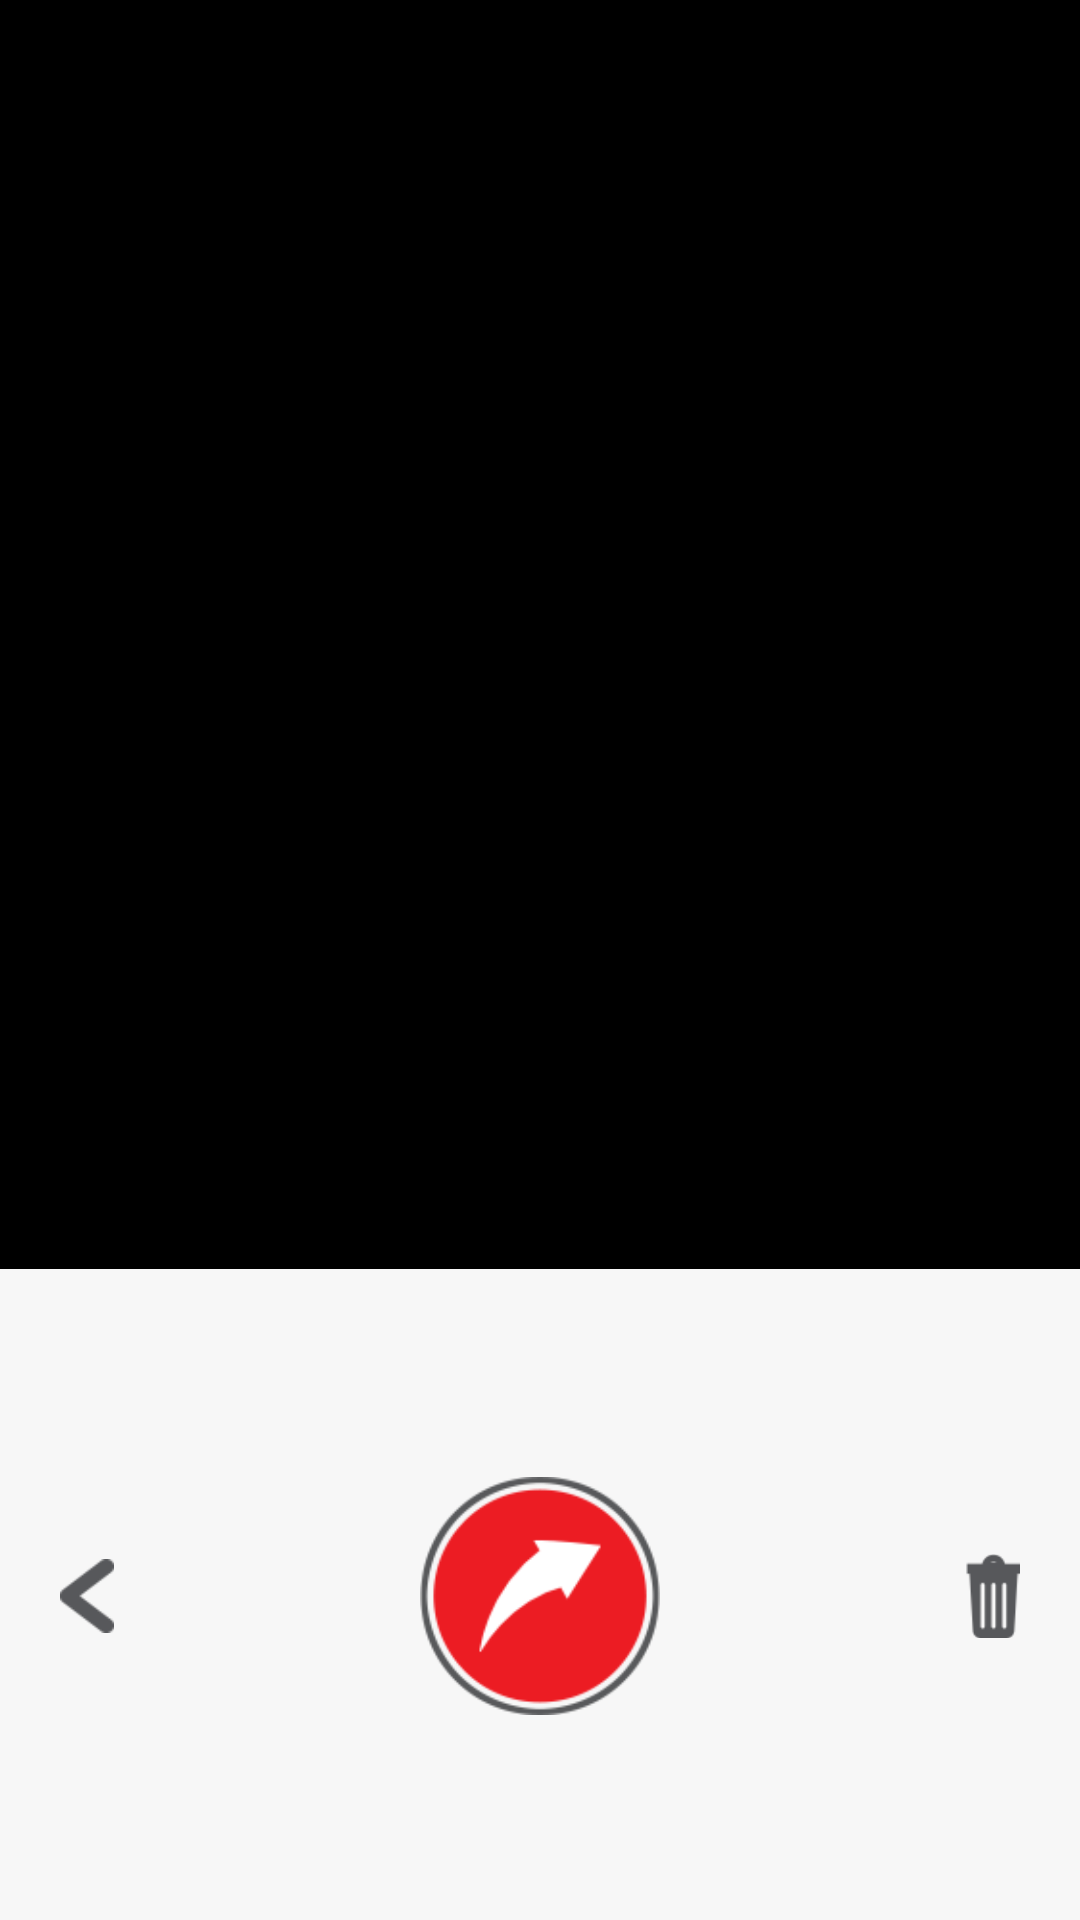

Screen size 1080px x 1920px. Icon name, then its box in pixels as (x1, y1, x2, y2):
back: (60, 1559, 114, 1633)
share: (420, 1477, 660, 1715)
trash: (966, 1554, 1020, 1638)
